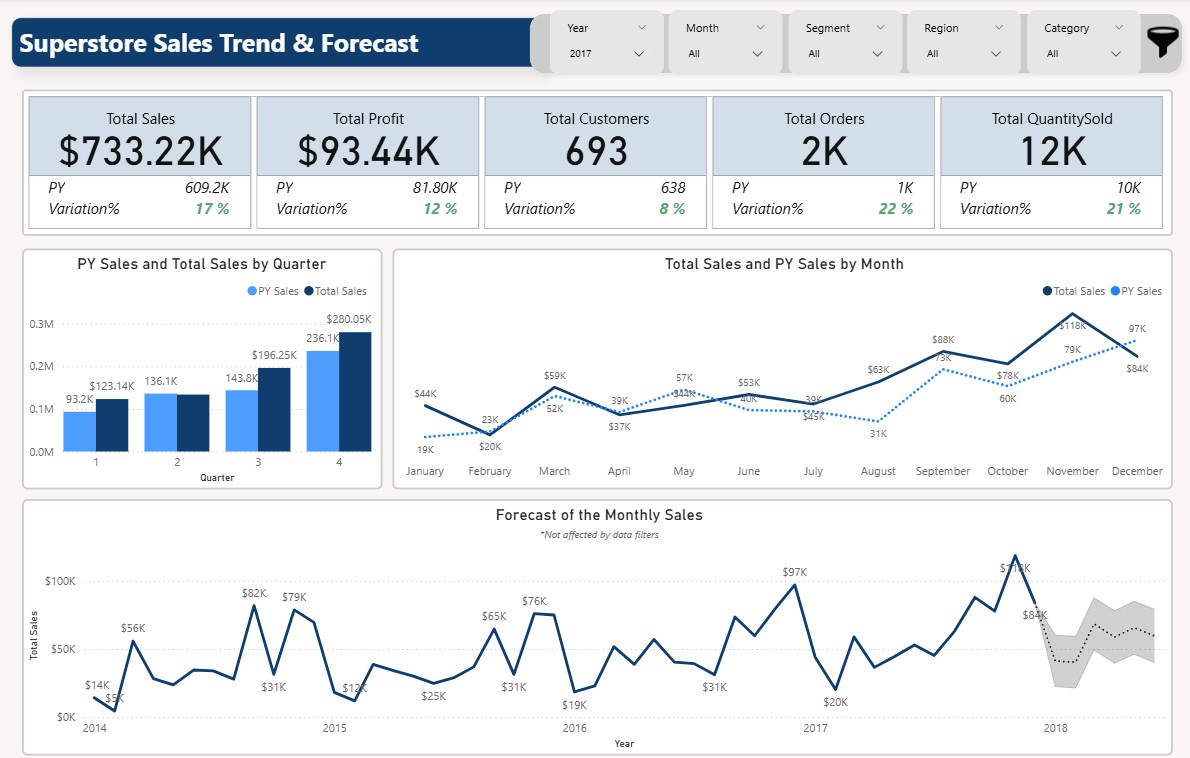

Layout of this report page (visuals, bound fields, positions):
{"tool":"powerbi","page":{"name":"Sales Trend","canvas":[1280,820],"ordinal":1},"visuals":[{"type":"textbox","box":[17.8,21.4,574,53.4],"z":0},{"type":"shape","box":[564.1,7.2,715.9,81.2],"z":1000},{"type":"slicer","fields":{"Values":["dim_Calendar.Year"]},"box":[593.7,13.1,122,69.4],"z":2000},{"type":"slicer","fields":{"Values":["dim_Calendar.Month"]},"box":[721.4,13.1,122,69.4],"z":3000},{"type":"slicer","fields":{"Values":["dim_Segments.Segment"]},"box":[849.1,13.1,122,69.4],"z":4000},{"type":"slicer","fields":{"Values":["dim_Regions.Region"]},"box":[976.8,13.1,122,69.4],"z":5000},{"type":"image","box":[1229,15.9,43.5,62.3],"z":6000},{"type":"slicer","fields":{"Values":["dim_Categories.Category"]},"box":[1104.6,13.1,122,69.4],"z":7000},{"type":"clusteredColumnChart","fields":{"Y":["0  DAX Measures.PY Sales","0  DAX Measures.Total_Sales"],"Category":["dim_Calendar.Quarter"]},"box":[28.4,267.5,385.9,258],"z":8000},{"type":"lineChart","title":"Forecast of the Monthly Sales","fields":{"Y":["0  DAX Measures.Total_Sales"],"Category":["dim_Calendar.Date.Variation.Date Hierarchy.Year","dim_Calendar.Date.Variation.Date Hierarchy.Month"]},"box":[28.4,536.2,1232.1,274.6],"z":9000},{"type":"lineChart","fields":{"Y":["0  DAX Measures.Total Sales","0  DAX Measures.PY Sales"],"Category":["dim_Calendar.Date.Variation.Date Hierarchy.Month"]},"box":[424.9,267.5,835.6,258],"z":10000},{"type":"cardVisual","fields":{"Data":["0  DAX Measures.Total_Sales","0  DAX Measures.Profit","0  DAX Measures.Total Customers","0  DAX Measures.Total Orders","0  DAX Measures.Total QuantitySold"]},"box":[28.5,97.9,1231.8,156.6],"z":11000}]}

Visuals, with their boxes in screenshot pixels (x1, y1, x2, y2), scaled from the page's 1280x820 canvas onto the 1190x758 screenshot:
textbox: 17, 20, 550, 69
shape: 524, 7, 1189, 82
slicer - dim_Calendar.Year: 552, 12, 665, 76
slicer - dim_Calendar.Month: 671, 12, 784, 76
slicer - dim_Segments.Segment: 789, 12, 903, 76
slicer - dim_Regions.Region: 908, 12, 1022, 76
image: 1143, 15, 1183, 72
slicer - dim_Categories.Category: 1027, 12, 1140, 76
clusteredColumnChart - 0  DAX Measures.PY Sales x 0  DAX Measures.Total_Sales: 26, 247, 385, 486
"Forecast of the Monthly Sales" lineChart: 26, 496, 1172, 749
lineChart - 0  DAX Measures.Total Sales x 0  DAX Measures.PY Sales: 395, 247, 1172, 486
cardVisual - 0  DAX Measures.Total_Sales x 0  DAX Measures.Profit: 26, 90, 1172, 235
